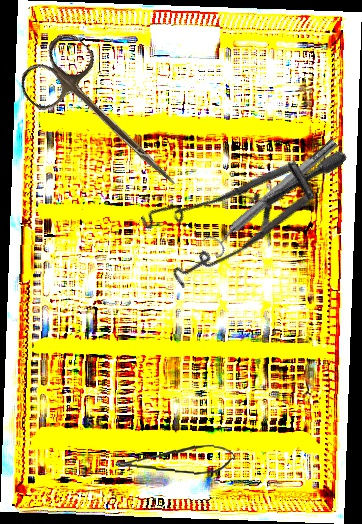Fixation Ring: (200, 132, 345, 260)
Iris Scissors: (12, 26, 204, 211)
Micro Scissor: (115, 439, 236, 477)
Speculum: (121, 78, 349, 323)
